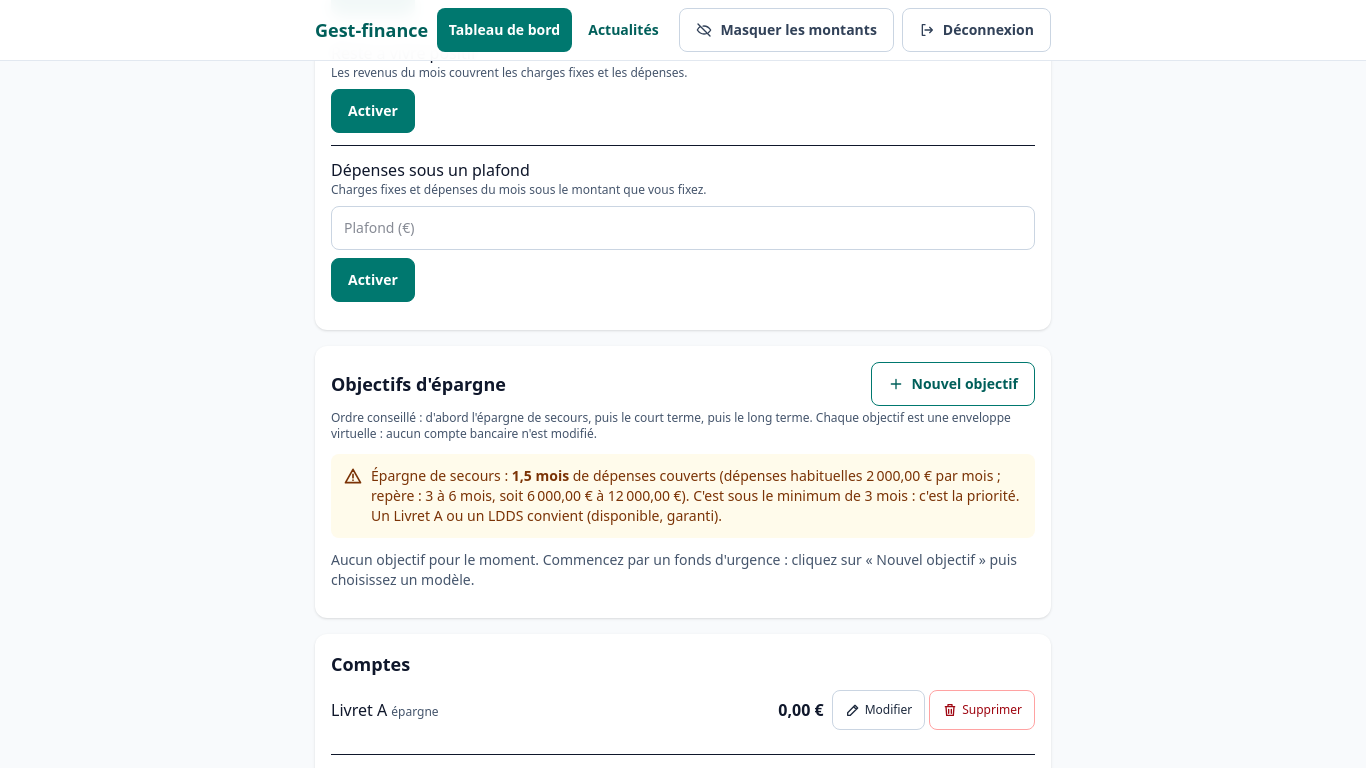
Test: objectifs d'épargne › refuse un objectif sans échéance ou sans montant sans appeler l'API
(page scrolled)
Expected: the list item "Aucun objectif pour le moment" is shown, [331,550,1017,589]
Click the button "Nouvel objectif" at (953, 384), box [871,362,1035,406]
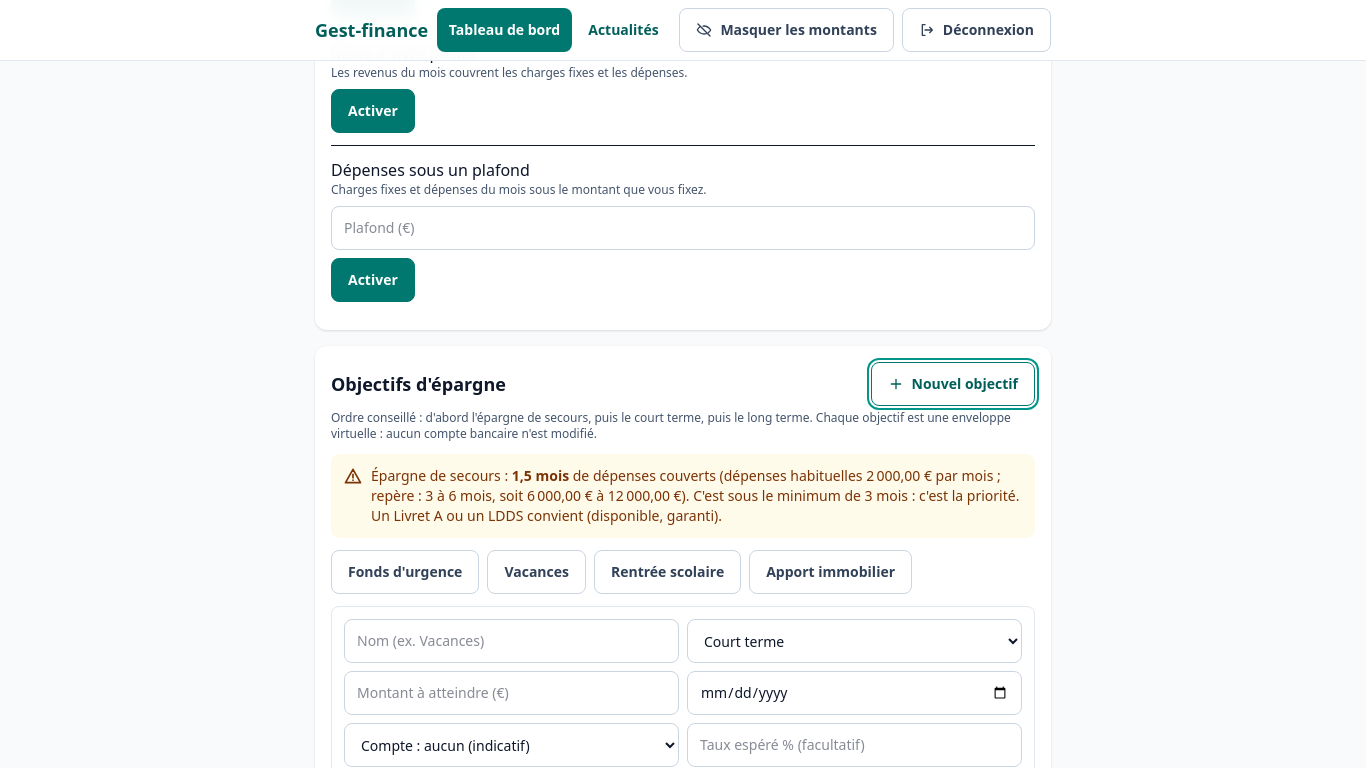
Type "Voyage" into the field named "Nom de l'objectif" at (512, 641), box [344,619,679,663]
(page scrolled)
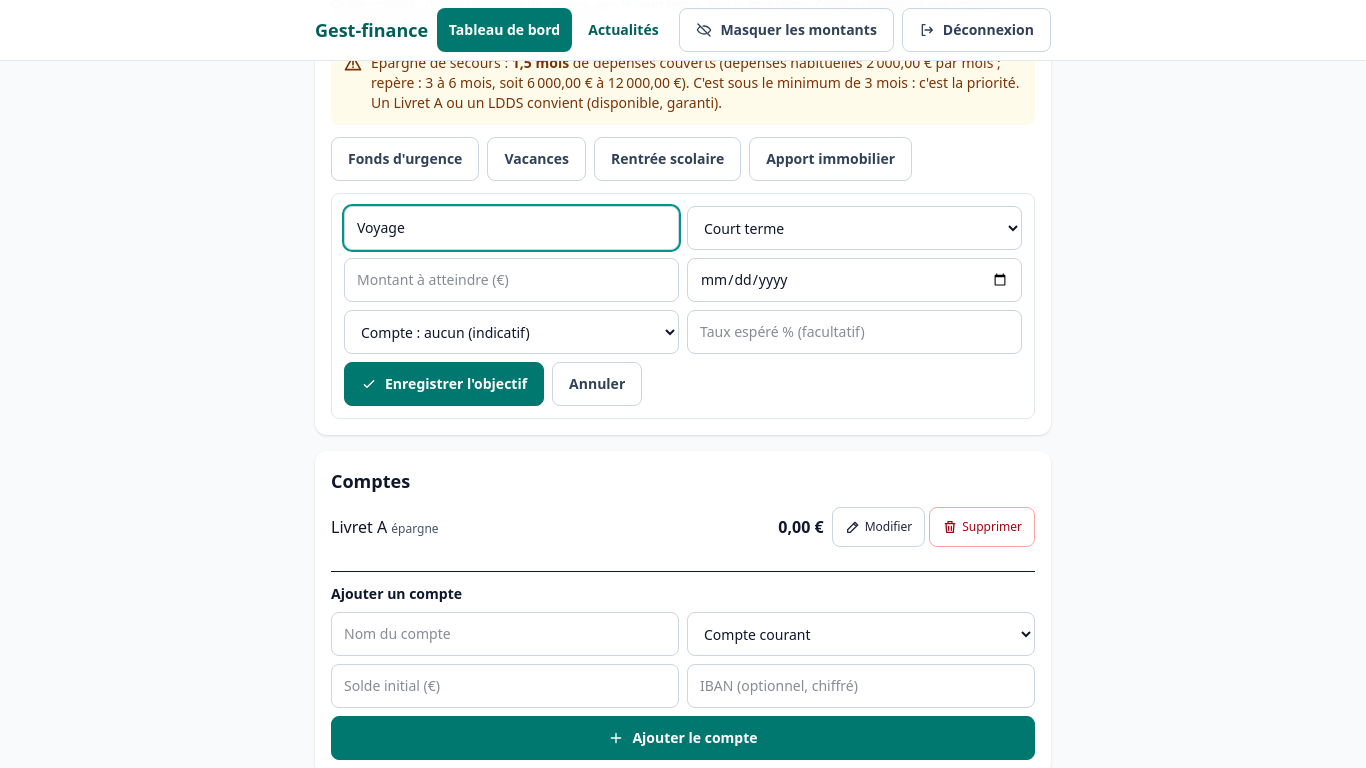
Click the button "Enregistrer l'objectif" at (444, 384), box [344,362,544,406]
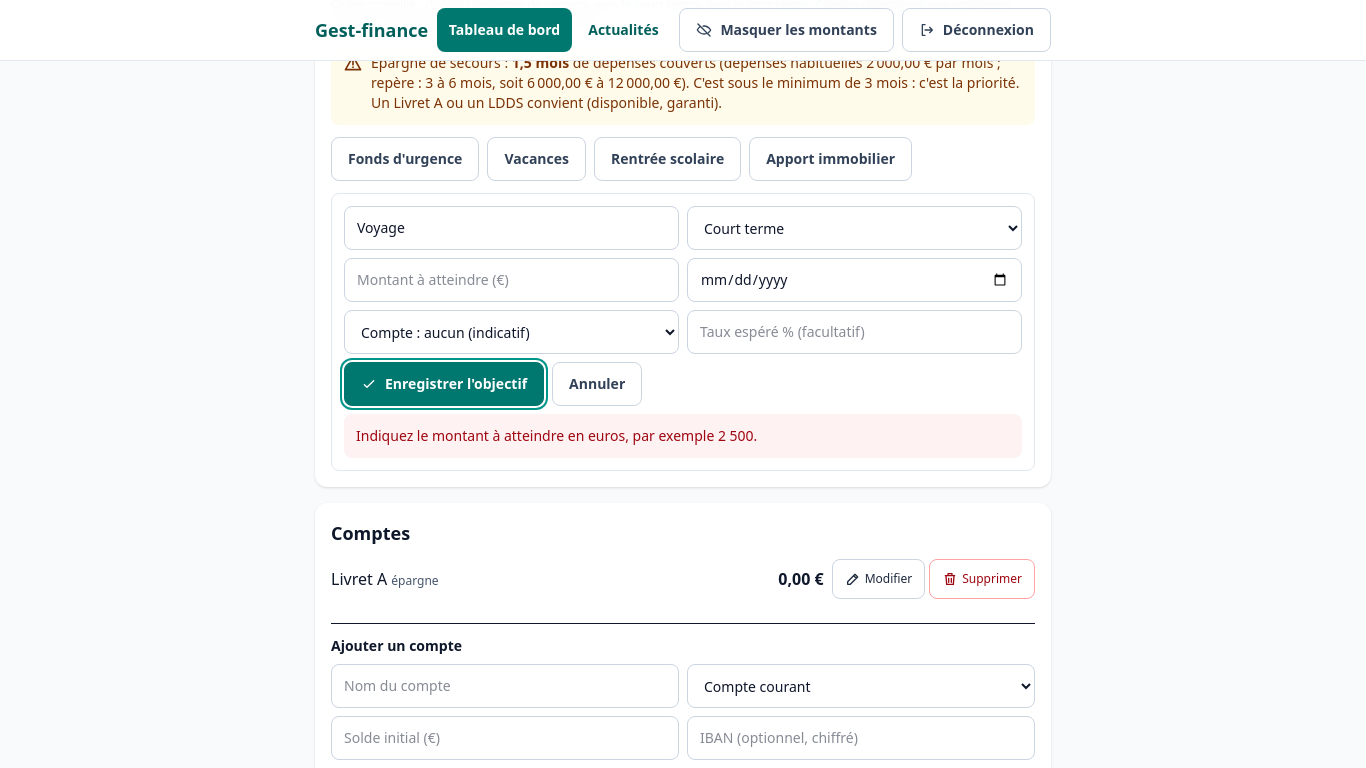
Expected: the message "Indiquez le montant à atteindre en euros, par exemple 2 500." is shown, [344,414,1022,458]
Type "2000" into the field labelled "Montant à atteindre" at (512, 280), box [344,258,679,302]
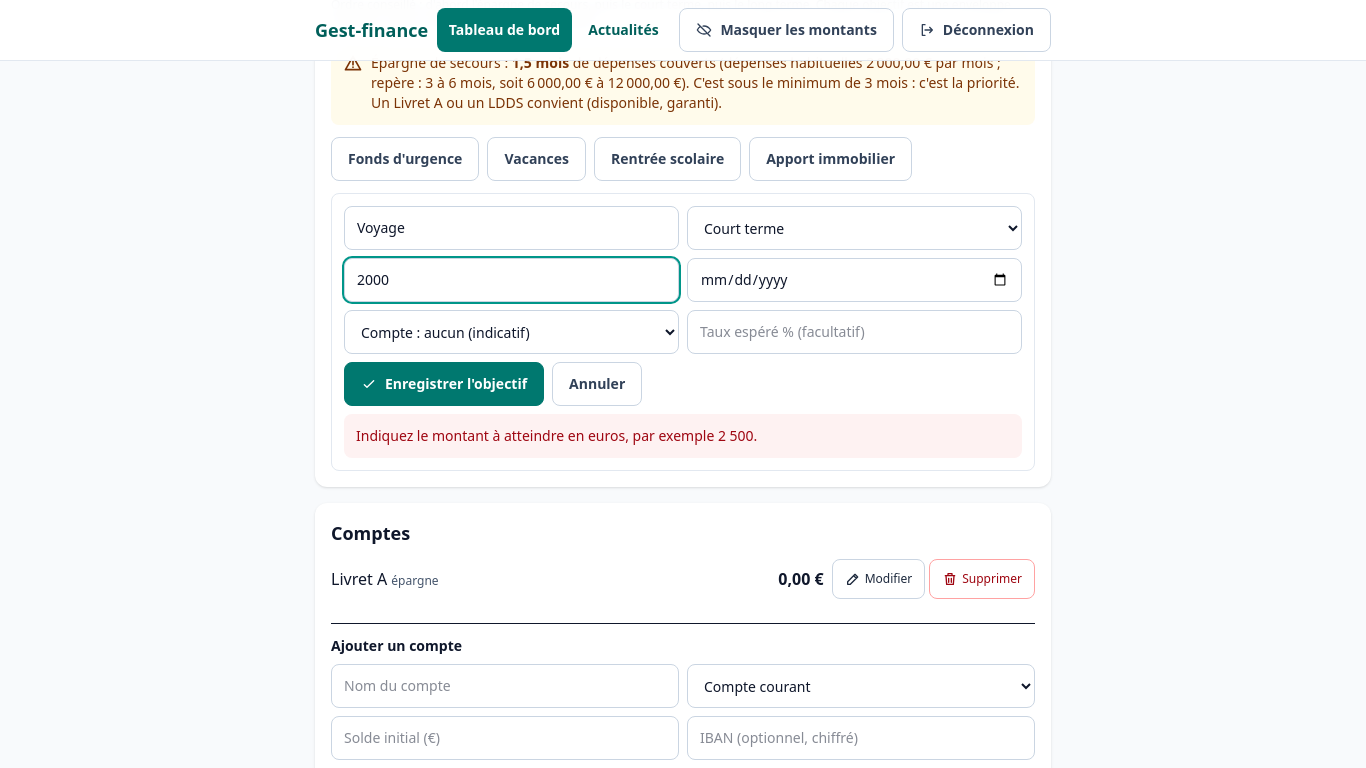
Click the button "Enregistrer l'objectif" at (444, 384), box [344,362,544,406]
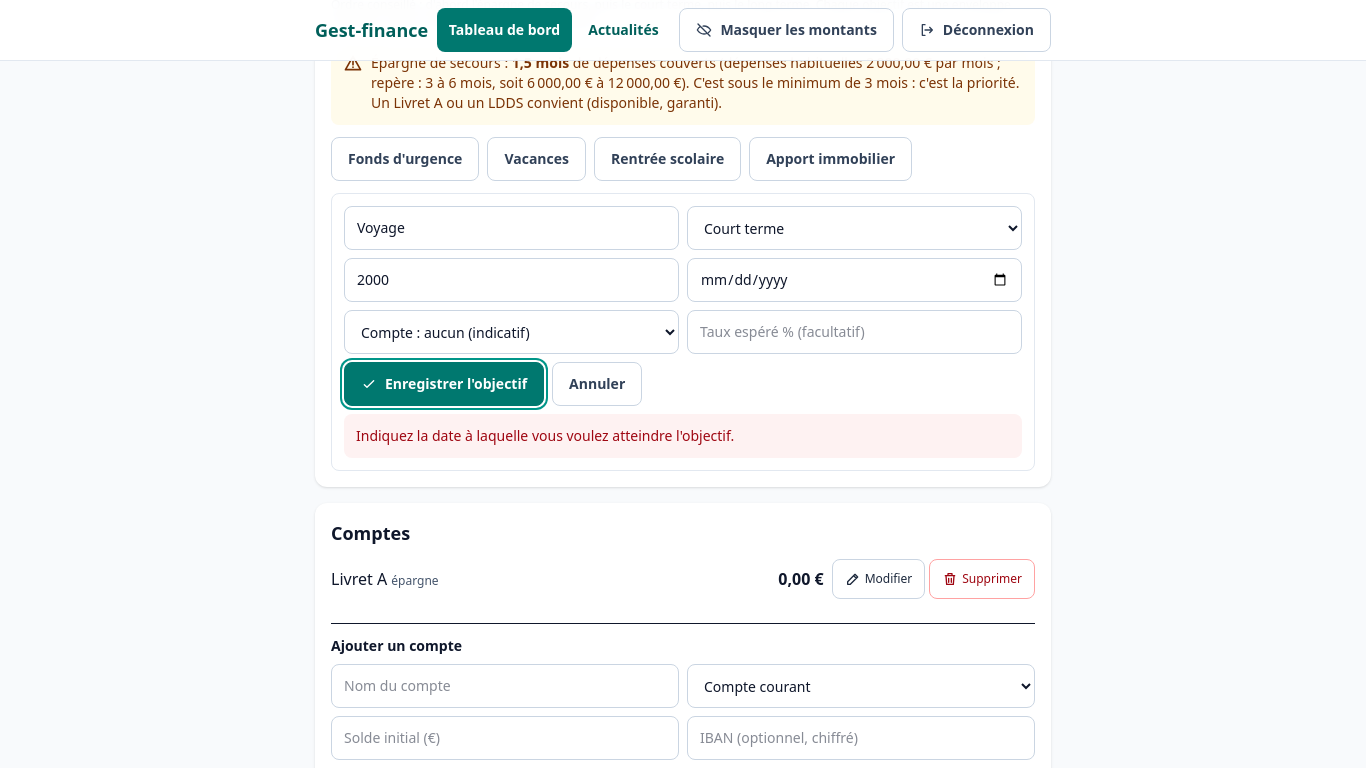
Expected: the message "Indiquez la date à laquelle vous voulez atteindre l'objectif." is shown, [344,414,1022,458]
